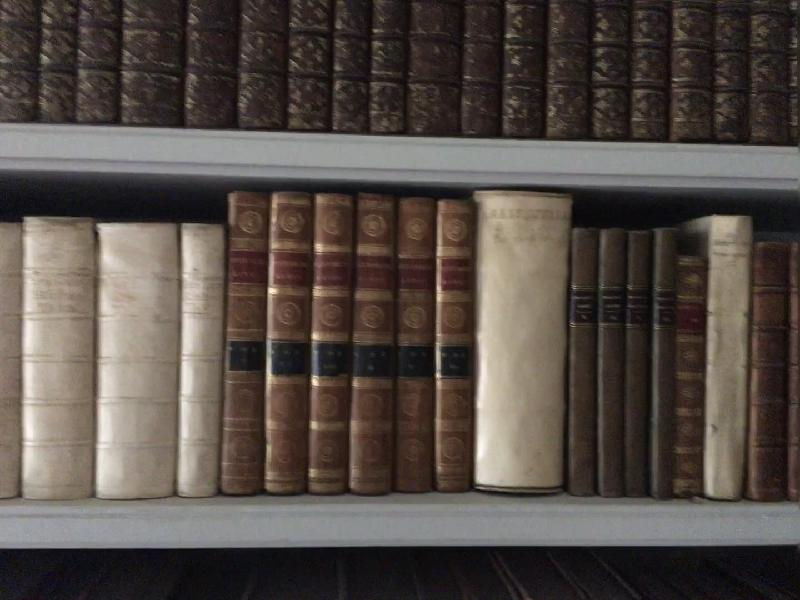Kk4-14: (477, 185, 566, 504)
Kk4-15_16: (569, 223, 627, 501)
Kk4-17_18: (628, 224, 674, 500)
Kk4-19: (676, 247, 706, 498)
Kk4-20: (707, 209, 750, 496)
Kk4-3_7: (1, 209, 219, 501)
Kk4-8_13: (226, 185, 480, 499)
